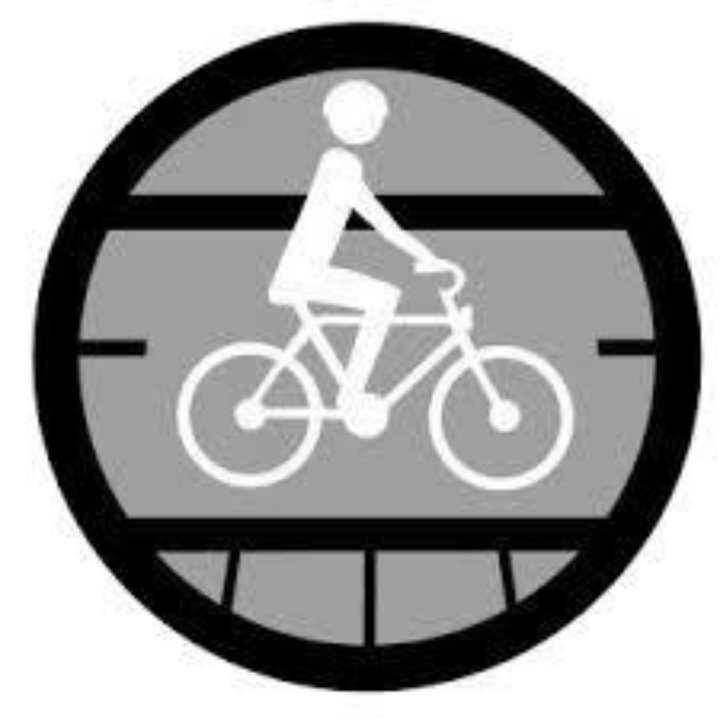bicycle: (155, 273, 593, 506)
